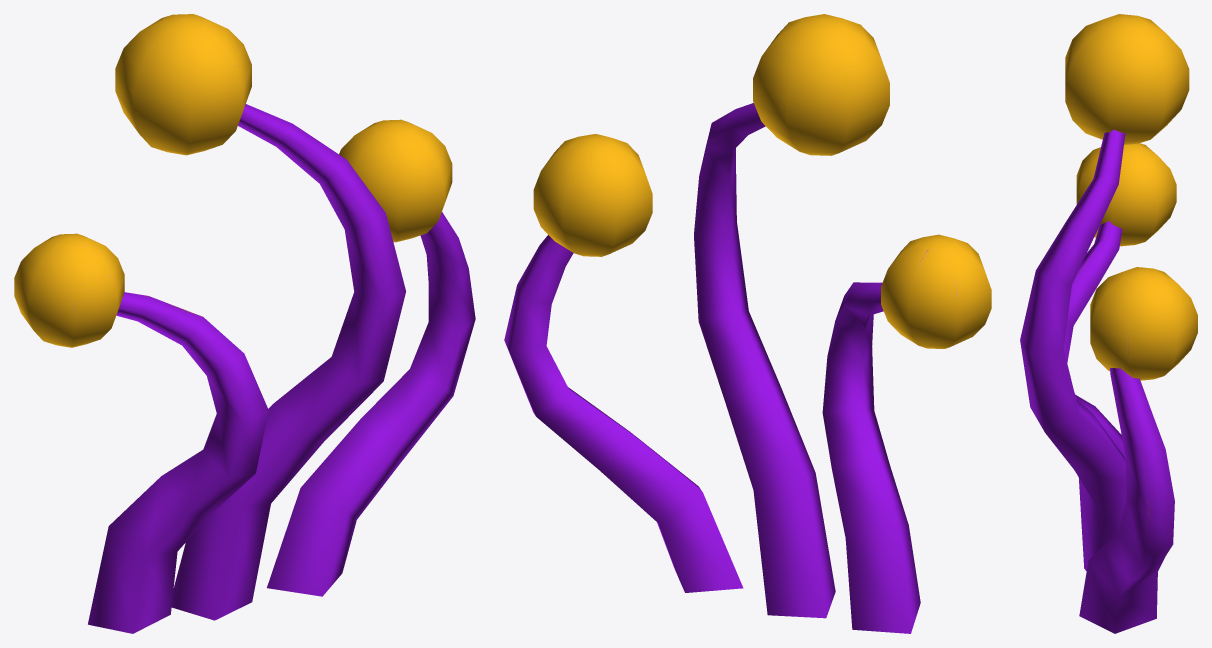
The model's file is Plant_1.fbx.
The picture shows the model from 3 angles, left to right: view 1: azimuth 30°, elevation 25°; view 2: azimuth 150°, elevation 25°; view 3: azimuth 270°, elevation 25°; orthographic projection. The views are drawn at different scales.
Visible parts, largest first — view 1: Plant_1; view 2: Plant_1; view 3: Plant_1.
Part boxes in pixels (x1,y1,x2,y2): Plant_1: (14, 14, 475, 633); Plant_1: (504, 14, 991, 633); Plant_1: (1020, 14, 1197, 633).
Size of the model in its own units: 180 by 218 by 64.19.
Materials: 1 (1 with a texture image).
